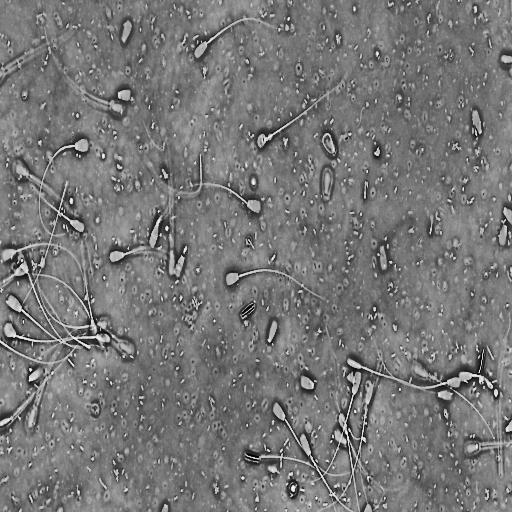dirt-particles: (288, 480, 298, 496), (268, 132, 273, 141)
loose-head: (266, 315, 280, 347), (471, 107, 483, 136), (299, 372, 316, 392), (116, 86, 132, 103), (174, 255, 185, 279)
loose-tail: (16, 177, 70, 322)
normal: (255, 68, 350, 152), (304, 366, 364, 486), (271, 400, 354, 478), (242, 446, 338, 512), (108, 243, 196, 311), (37, 136, 90, 241), (3, 242, 85, 305), (3, 290, 85, 350), (372, 337, 463, 391), (299, 431, 356, 512), (193, 17, 275, 61), (225, 268, 329, 301), (345, 353, 429, 393), (336, 409, 360, 512), (187, 183, 261, 213), (2, 319, 79, 344)
